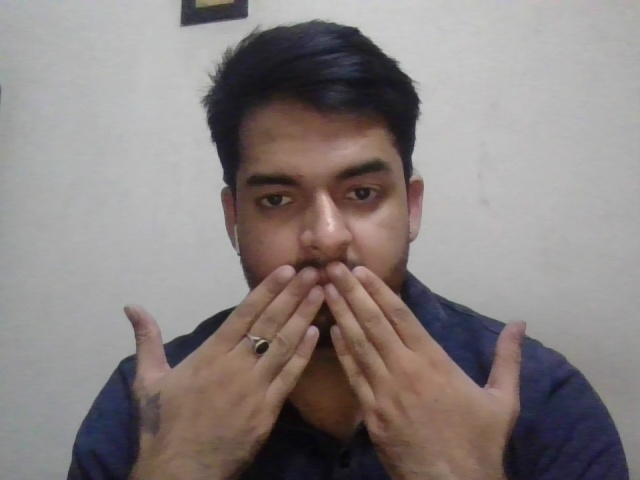thanks: (122, 263, 529, 480)
